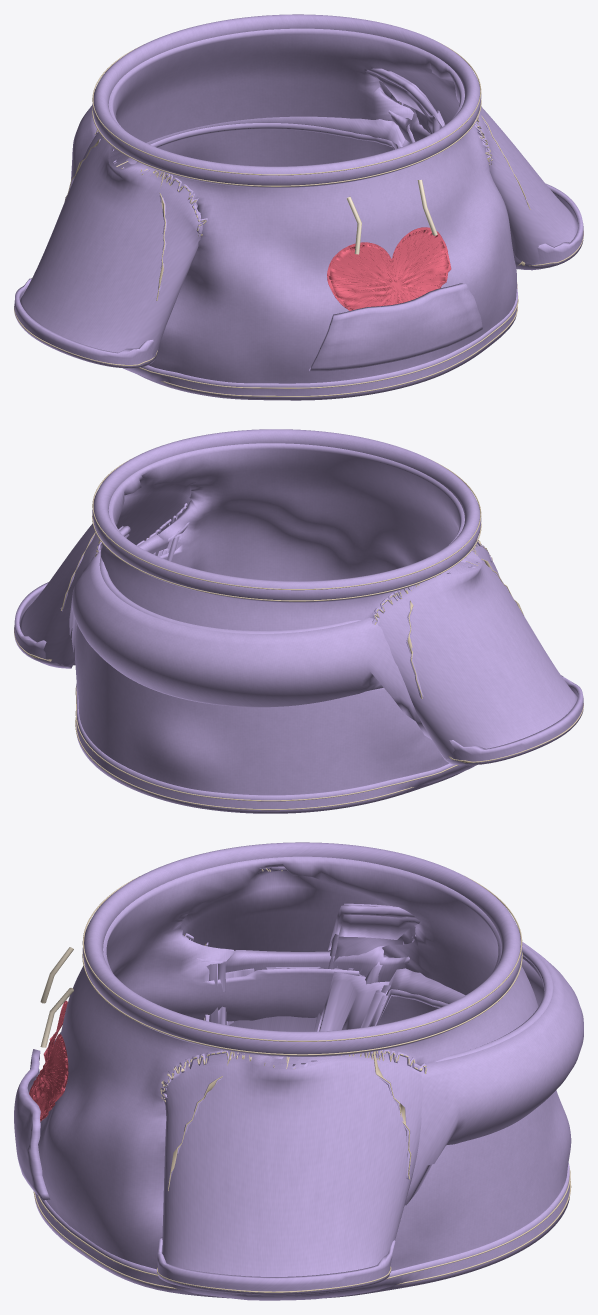
The model's file is sewn_hoodie_nido_bear.glb.
3 renders of one model, top to bottom at view 1: azimuth 30°, elevation 25°; view 2: azimuth 150°, elevation 25°; view 3: azimuth 270°, elevation 25°, orthographic. The views are drawn at different scales.
Visible parts, largest first — view 1: Manga adaptada · Camiseta cosida continua, Dobladillo de algodón · Cuello, Panel · bolsillo canguro, Bordado corazón · tejido continuo, Dobladillo de algodón · Bajo, Panel · capucha bajada cosida, Dobladillo de manga cosida -1, Ribete continuo de capucha, Dobladillo de manga cosida 1, Pespunte · Cuello.001, Pespunte · Cuello, Pespunte · Bajo.001 (+1 smaller); view 2: Manga adaptada · Camiseta cosida continua, Panel · capucha bajada cosida, Dobladillo de algodón · Cuello, Dobladillo de algodón · Bajo, Dobladillo de manga cosida -1, Ribete continuo de capucha, Dobladillo de manga cosida 1, Pespunte · Cuello.001, Pespunte · Cuello, Pespunte · Bajo.001, Pespunte · Bajo; view 3: Manga adaptada · Camiseta cosida continua, Panel · capucha bajada cosida, Dobladillo de algodón · Cuello, Dobladillo de algodón · Bajo, Dobladillo de manga cosida 1, Ribete continuo de capucha, Panel · bolsillo canguro, Bordado corazón · tejido continuo, Pespunte · Cuello.001, Pespunte · Cuello, Dobladillo de manga cosida -1, Unión textil de la sisa 1 4 (+3 smaller).
Boxes of the visible parts, x1,y1,x2,y2 form: Manga adaptada · Camiseta cosida continua: [20, 28, 578, 383]; Dobladillo de algodón · Cuello: [92, 14, 481, 187]; Panel · bolsillo canguro: [309, 283, 482, 371]; Bordado corazón · tejido continuo: [327, 227, 451, 310]; Dobladillo de algodón · Bajo: [122, 284, 517, 400]; Panel · capucha bajada cosida: [71, 71, 441, 179]; Dobladillo de manga cosida -1: [14, 278, 158, 368]; Ribete continuo de capucha: [150, 68, 445, 149]; Dobladillo de manga cosida 1: [406, 124, 583, 269]; Pespunte · Cuello.001: [92, 42, 481, 175]; Pespunte · Cuello: [92, 99, 481, 186]; Pespunte · Bajo.001: [139, 282, 518, 388]; Manga adaptada · Camiseta cosida continua: [19, 443, 577, 795]; Panel · capucha bajada cosida: [69, 526, 431, 739]; Dobladillo de algodón · Cuello: [92, 429, 481, 602]; Dobladillo de algodón · Bajo: [76, 683, 476, 813]; Dobladillo de manga cosida -1: [445, 675, 583, 765]; Ribete continuo de capucha: [99, 526, 360, 633]; Dobladillo de manga cosida 1: [14, 536, 181, 665]; Pespunte · Cuello.001: [92, 458, 481, 590]; Pespunte · Cuello: [92, 513, 481, 601]; Pespunte · Bajo.001: [75, 686, 458, 801]; Pespunte · Bajo: [75, 717, 414, 810]; Manga adaptada · Camiseta cosida continua: [38, 856, 571, 1297]; Panel · capucha bajada cosida: [317, 903, 583, 1205]; Dobladillo de algodón · Cuello: [82, 842, 522, 1056]; Dobladillo de algodón · Bajo: [34, 1163, 569, 1300]; Dobladillo de manga cosida 1: [157, 1237, 395, 1295]; Ribete continuo de capucha: [314, 905, 553, 1062]; Panel · bolsillo canguro: [14, 1049, 50, 1200]; Bordado corazón · tejido continuo: [29, 1000, 68, 1121]; Pespunte · Cuello.001: [82, 876, 522, 1041]; Pespunte · Cuello: [82, 951, 522, 1055]; Dobladillo de manga cosida -1: [204, 960, 382, 1024]; Unión textil de la sisa 1 4: [161, 1050, 426, 1102].
Bounding box in the file's own units: 0.8798 × 0.3385 × 0.6844.
4 materials, 2 textured.
